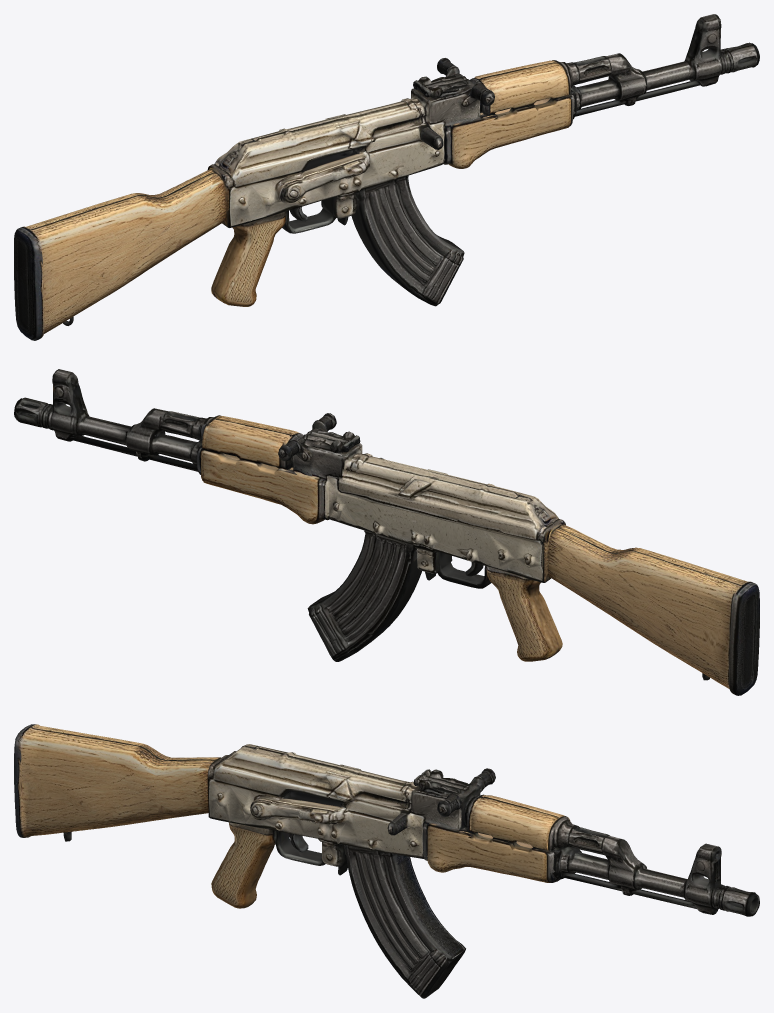
3 views of the same model, one above another, from view 1: azimuth 30°, elevation 25°; view 2: azimuth 150°, elevation 25°; view 3: azimuth 330°, elevation 25° (orthographic).
Visible parts, largest first — view 1: tripo_node_6d3b9793-0903-4ab4-bc34-2843d5cd9aee; view 2: tripo_node_6d3b9793-0903-4ab4-bc34-2843d5cd9aee; view 3: tripo_node_6d3b9793-0903-4ab4-bc34-2843d5cd9aee.
Part boxes in pixels (x1,y1,x2,y2): tripo_node_6d3b9793-0903-4ab4-bc34-2843d5cd9aee: (14, 14, 759, 340); tripo_node_6d3b9793-0903-4ab4-bc34-2843d5cd9aee: (14, 369, 759, 695); tripo_node_6d3b9793-0903-4ab4-bc34-2843d5cd9aee: (14, 724, 759, 998).
Size of the model in its own units: 0.9832 by 0.2823 by 0.1143.
Materials: 1 (1 with a texture image).
